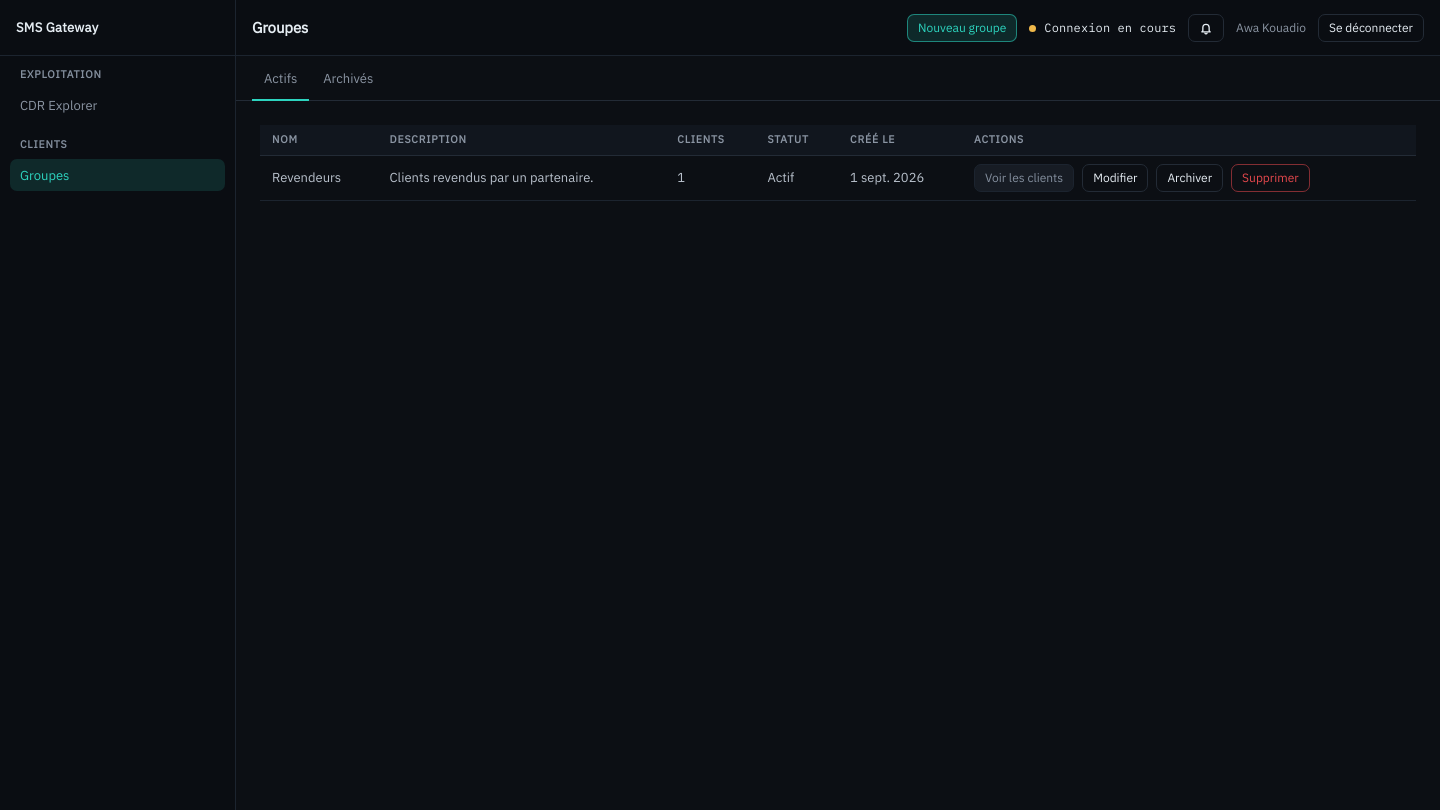
Scenario: the groups screen › refuses an empty name under its field, before any request
The width and height of the screenshot is (1440, 810).
Click the button "Nouveau groupe" at x=962, y=28, box [907, 14, 1017, 42]
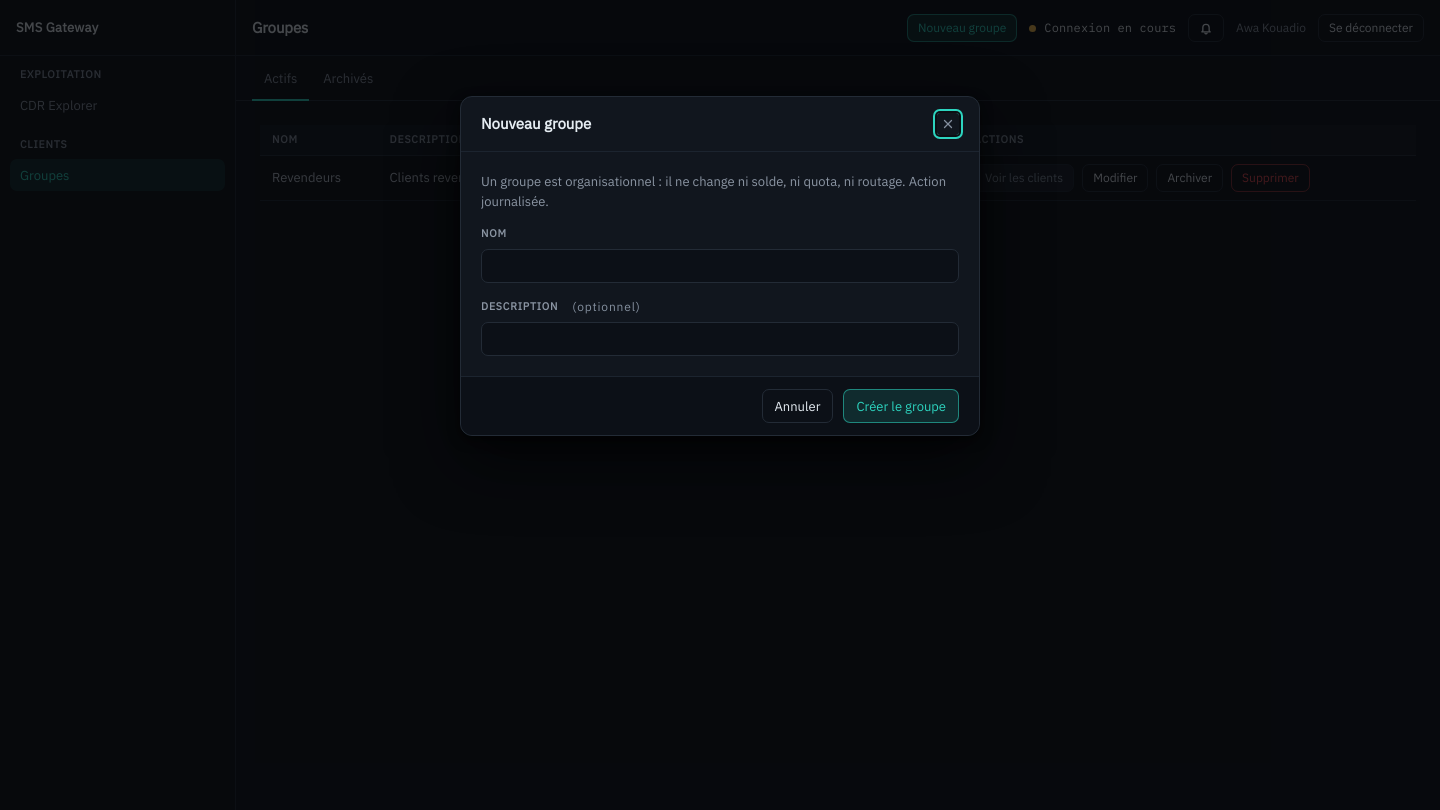
Click the button "Créer le groupe" at x=901, y=406, box [844, 389, 959, 423]
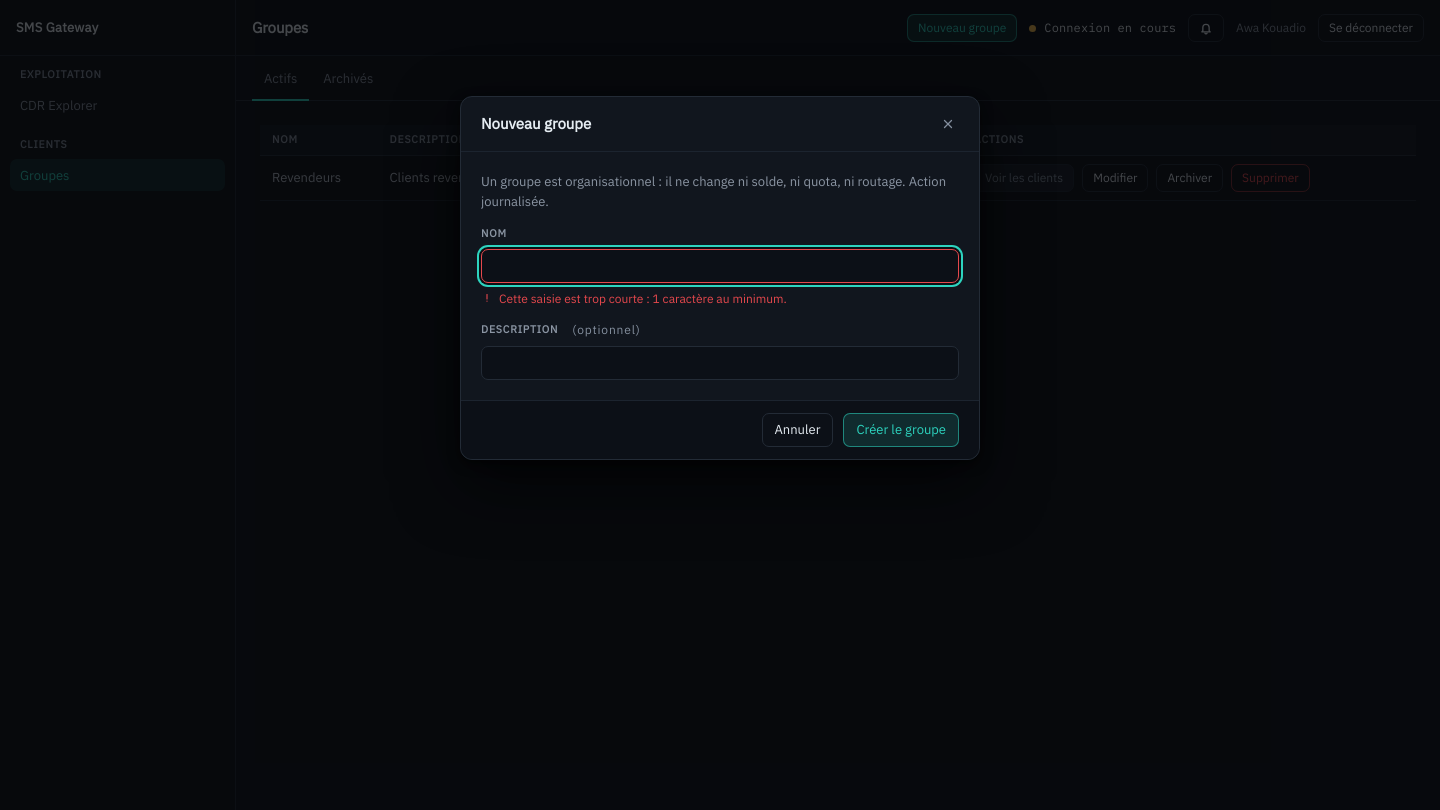
Click the button "Annuler" at x=797, y=430, box [762, 413, 833, 447]
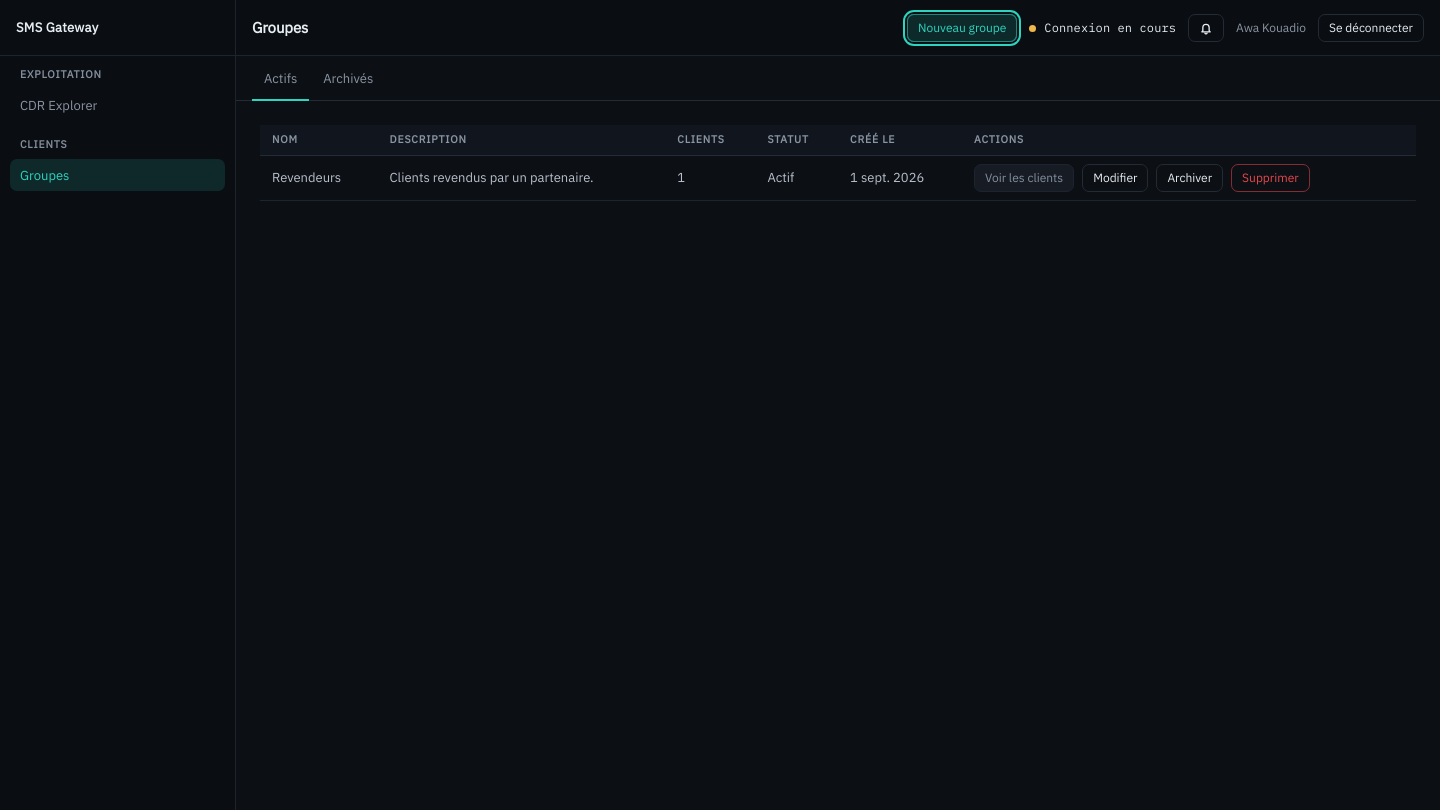
Check: the dialog is gone
